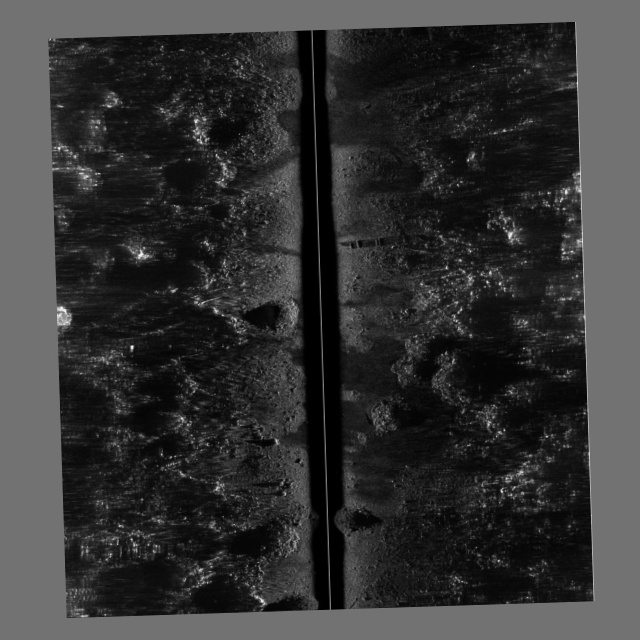Shipwreck: (332, 101, 432, 250)
